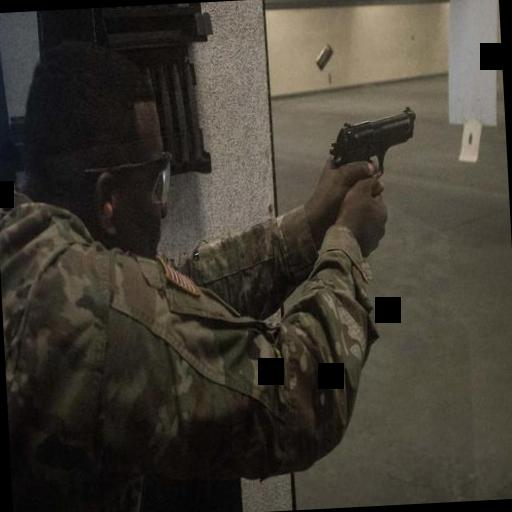Handgun: (322, 104, 420, 196)
